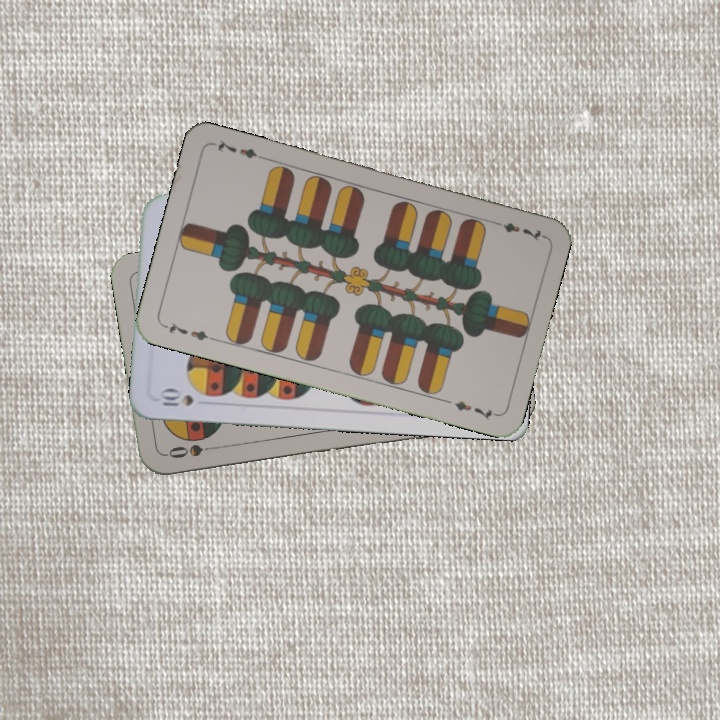E7: (488, 216, 546, 244), (159, 318, 218, 344)
S10: (155, 386, 196, 409)
SO: (163, 440, 222, 461)
